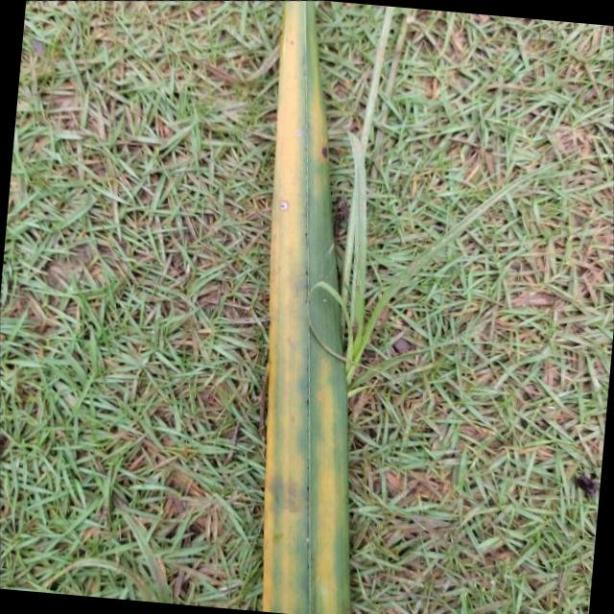Megnesium: (260, 0, 348, 614)
